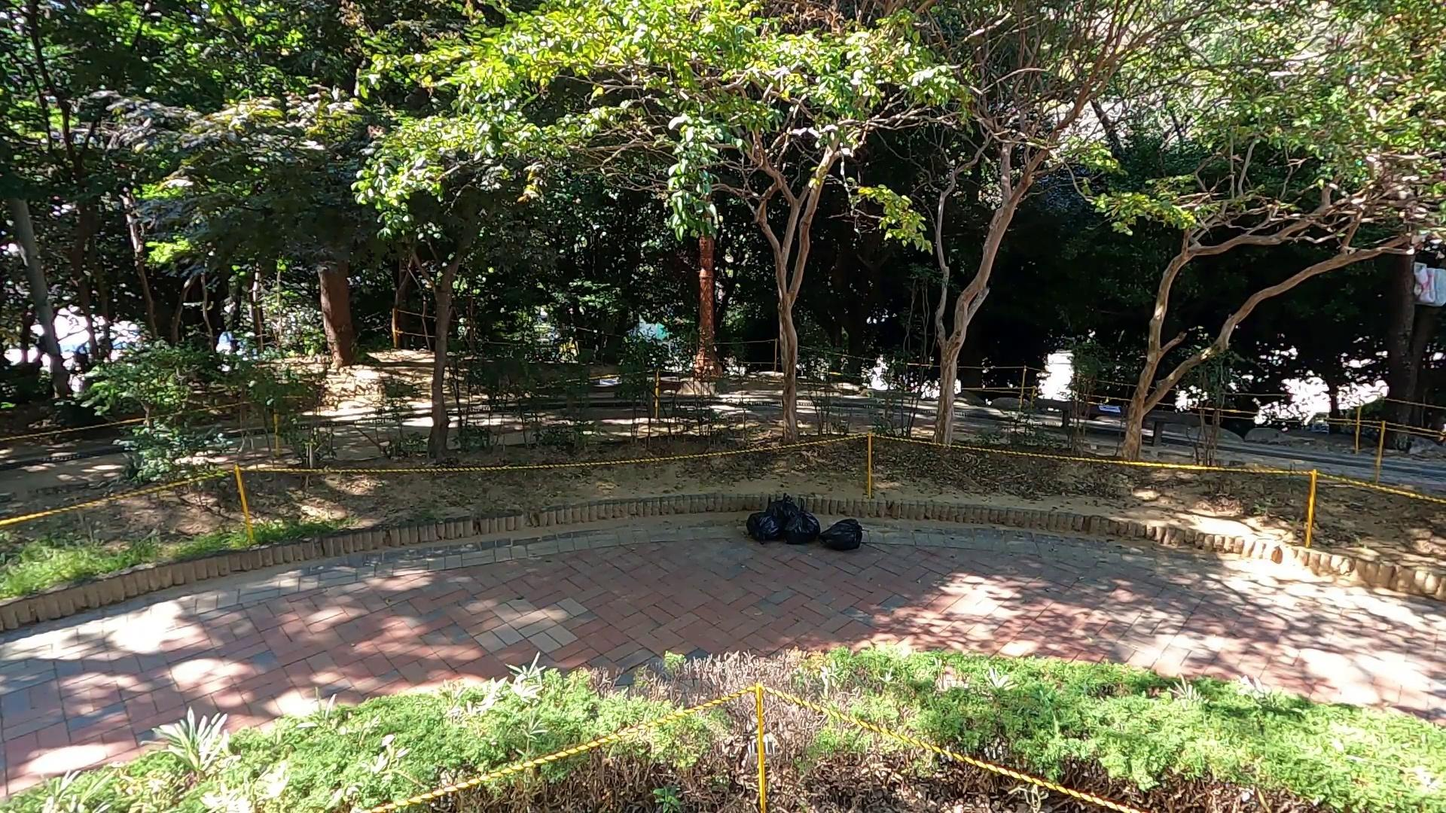trash: (778, 497, 824, 542), (764, 492, 799, 537), (820, 516, 864, 551), (748, 509, 784, 543)
